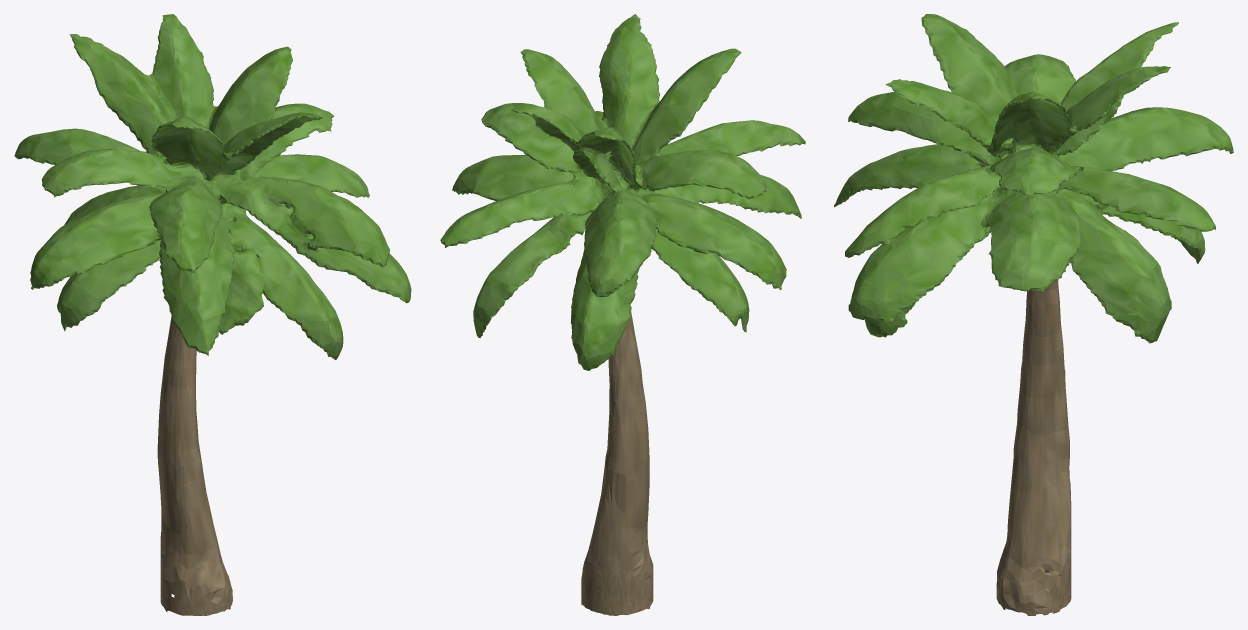
File: palm_tree.glb
3 renders of one model, left to right at view 1: azimuth 30°, elevation 25°; view 2: azimuth 150°, elevation 25°; view 3: azimuth 270°, elevation 25°, orthographic. The views are drawn at different scales.
Visible parts, largest first — view 1: world; view 2: world; view 3: world.
Part boxes in pixels (x1,y1,x2,y2): world: (14,14,411,615); world: (440,14,805,615); world: (834,14,1233,615).
Bounding box in the file's own units: 4.21 × 6.5 × 4.28.
